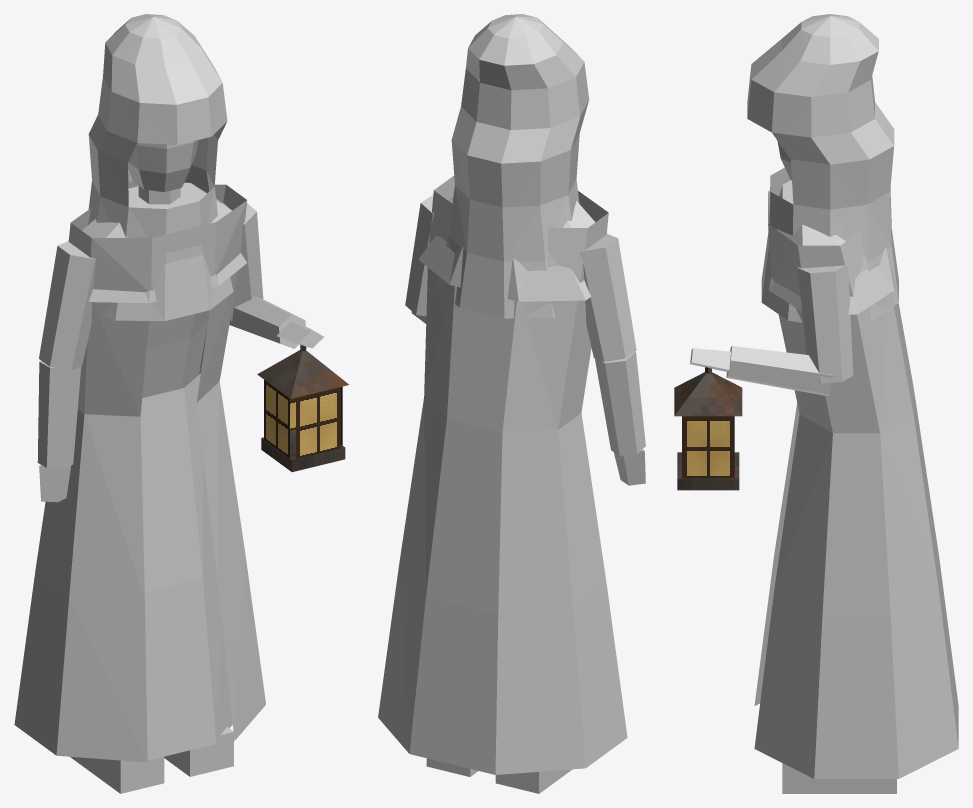
File: encapuchado.obj
The picture shows the model from 3 angles, left to right: view 1: azimuth 30°, elevation 25°; view 2: azimuth 150°, elevation 25°; view 3: azimuth 270°, elevation 25°; orthographic projection.
Parts seen in each view (by area): view 1: encapuchado; view 2: encapuchado; view 3: encapuchado.
Part boxes in pixels (x1,y1,x2,y2): encapuchado: (14,14,348,793); encapuchado: (378,14,645,793); encapuchado: (674,14,958,793).
Bounding box in the file's own units: 0.6391 × 1.89 × 0.6498.
3 materials, 2 textured.
